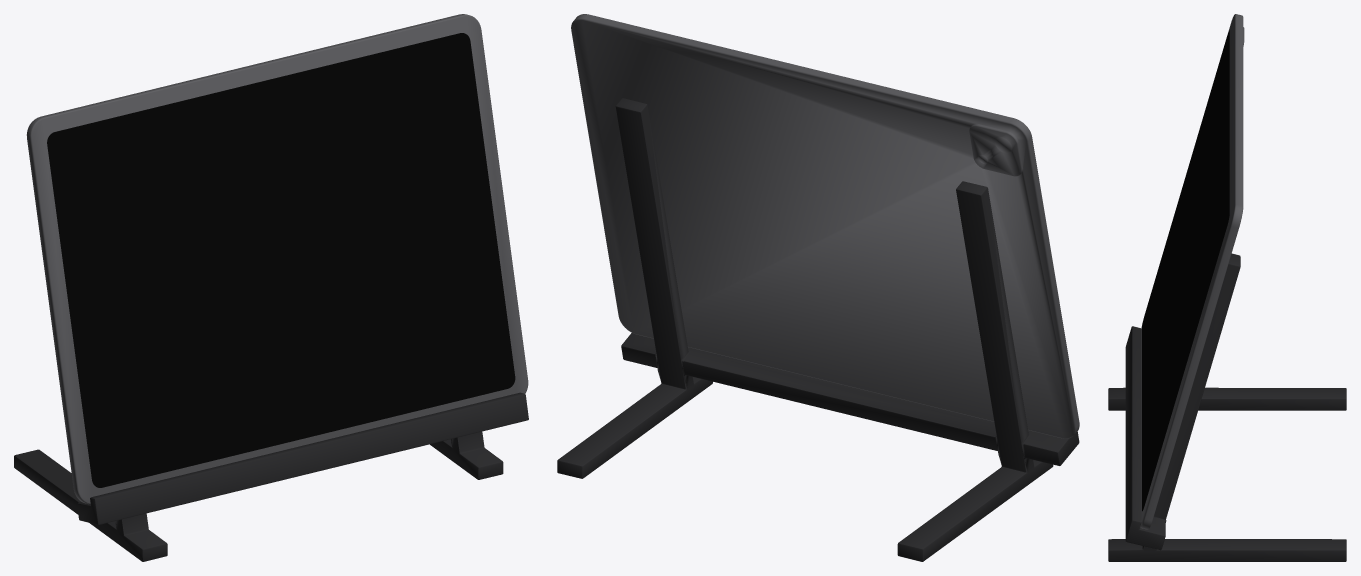
File: sonde.mobile.glb
3 renders of one model, left to right at view 1: azimuth 30°, elevation 25°; view 2: azimuth 150°, elevation 25°; view 3: azimuth 270°, elevation 25°, orthographic. The views are drawn at different scales.
Parts seen in each view (by area): view 1: screen, tablet, easel; view 2: tablet, easel; view 3: screen, easel, tablet.
Boxes of the visible parts, bbox=[...] form: screen: bbox=[47, 33, 515, 487]; tablet: bbox=[26, 14, 528, 504]; easel: bbox=[14, 392, 528, 561]; tablet: bbox=[571, 14, 1079, 438]; easel: bbox=[557, 98, 1079, 561]; screen: bbox=[1142, 30, 1229, 511]; easel: bbox=[1108, 253, 1346, 561]; tablet: bbox=[1140, 14, 1244, 529].
Bounding box in the file's own units: 0.2821 × 0.2401 × 0.14.
Materials: 3 (1 with a texture image).
